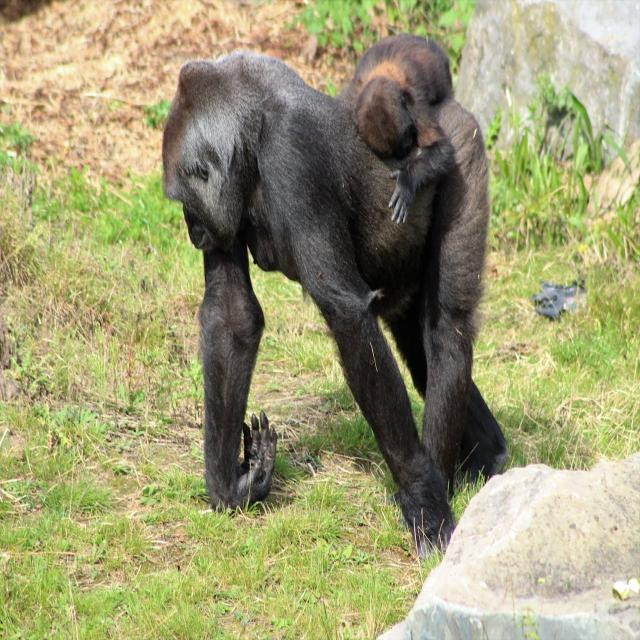Gorilla: (160, 48, 510, 546), (342, 34, 457, 226)
